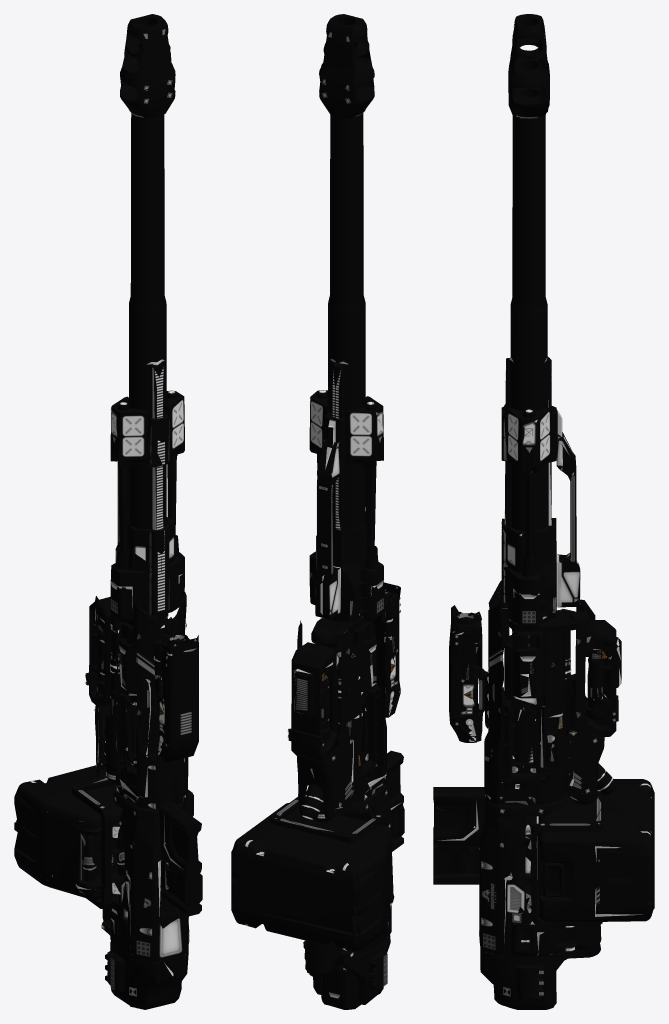
File: 9-series-longsword-cannon.glb
3 views of the same model, side by side, from view 1: azimuth 30°, elevation 25°; view 2: azimuth 150°, elevation 25°; view 3: azimuth 270°, elevation 25° (orthographic).
Visible parts, largest first — view 1: core_l1, ventilation_unit_l1; view 2: ventilation_unit_l1, core_l1; view 3: core_l1, ventilation_unit_l1.
Boxes of the visible parts, <box> form: core_l1: <box>29,29,202,1009</box>; ventilation_unit_l1: <box>14,14,193,899</box>; ventilation_unit_l1: <box>231,14,391,951</box>; core_l1: <box>245,32,404,1009</box>; core_l1: <box>433,22,651,1009</box>; ventilation_unit_l1: <box>505,14,654,921</box>.
Bounding box in the file's own units: 0.2569 × 1.82 × 0.3718.
Materials: 10 (5 with a texture image).
